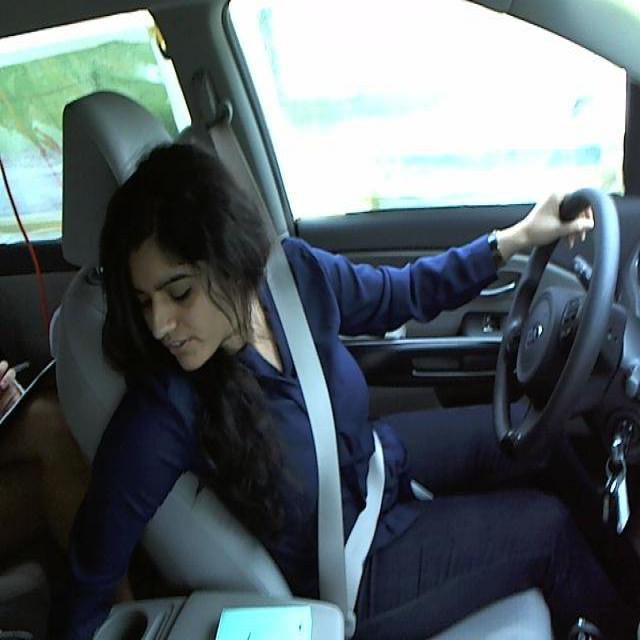seatbelt: (262, 280, 402, 591)
